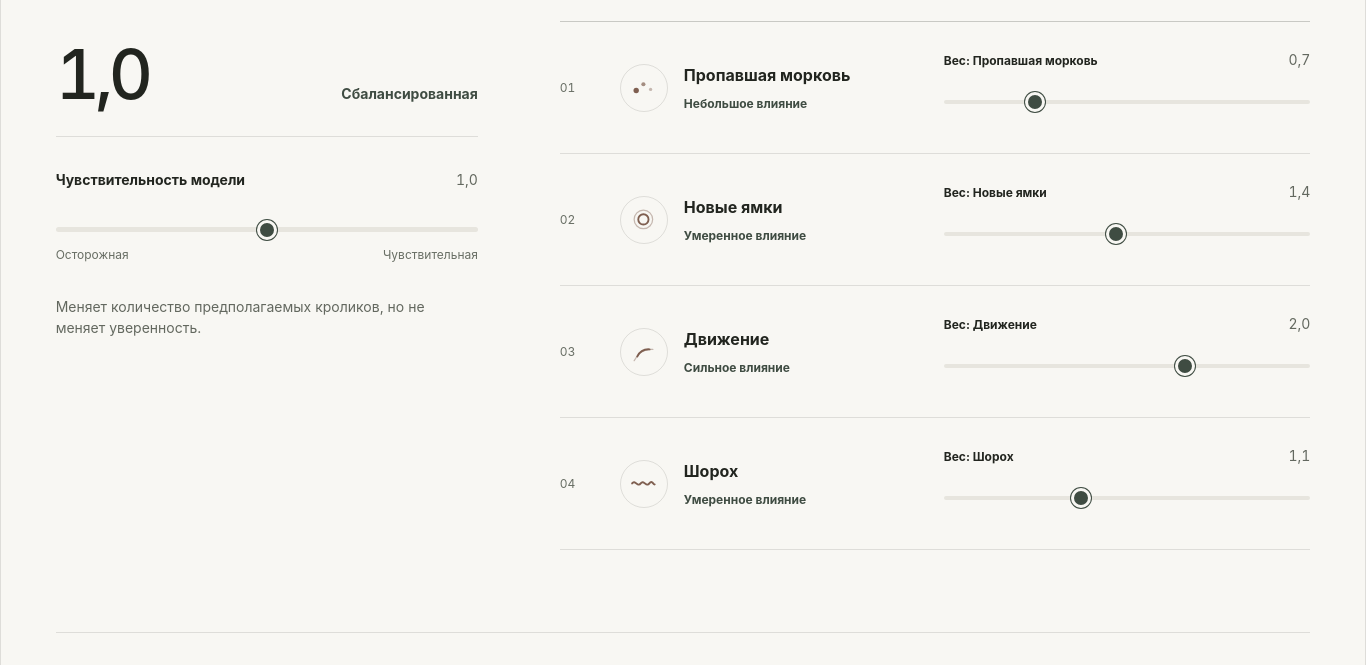
Test case: ModelSettingsSection › принимает веса 0 и 3, показывает влияние текстом и меняет evidence
The width and height of the screenshot is (1366, 665).
(page scrolled)
Set the slider labelled "Вес: Движение" to "0" at (952, 366), box top-left (944, 342), bottom-right (1310, 390)
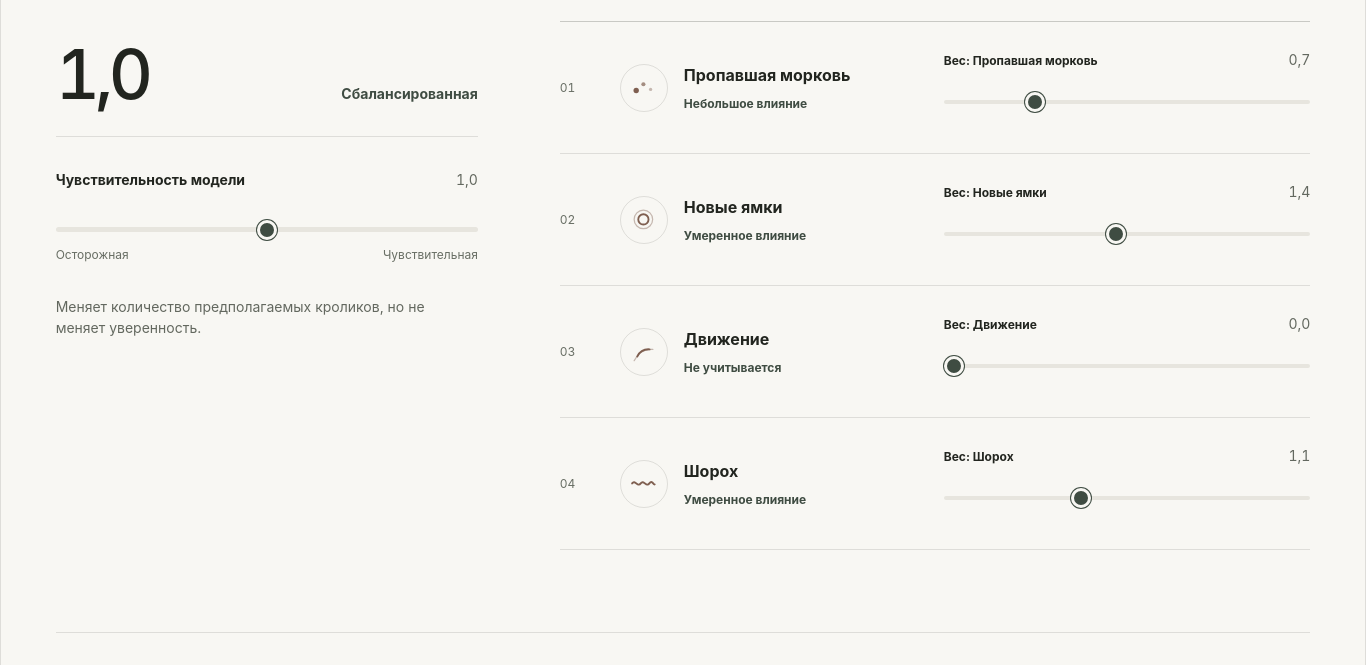
Expected: the text "Не учитывается" is shown, top-left (684, 360), bottom-right (781, 374)
Set the slider labelled "Вес: Пропавшая морковь" to "3" at (1302, 102), box top-left (944, 78), bottom-right (1310, 126)
(page scrolled)
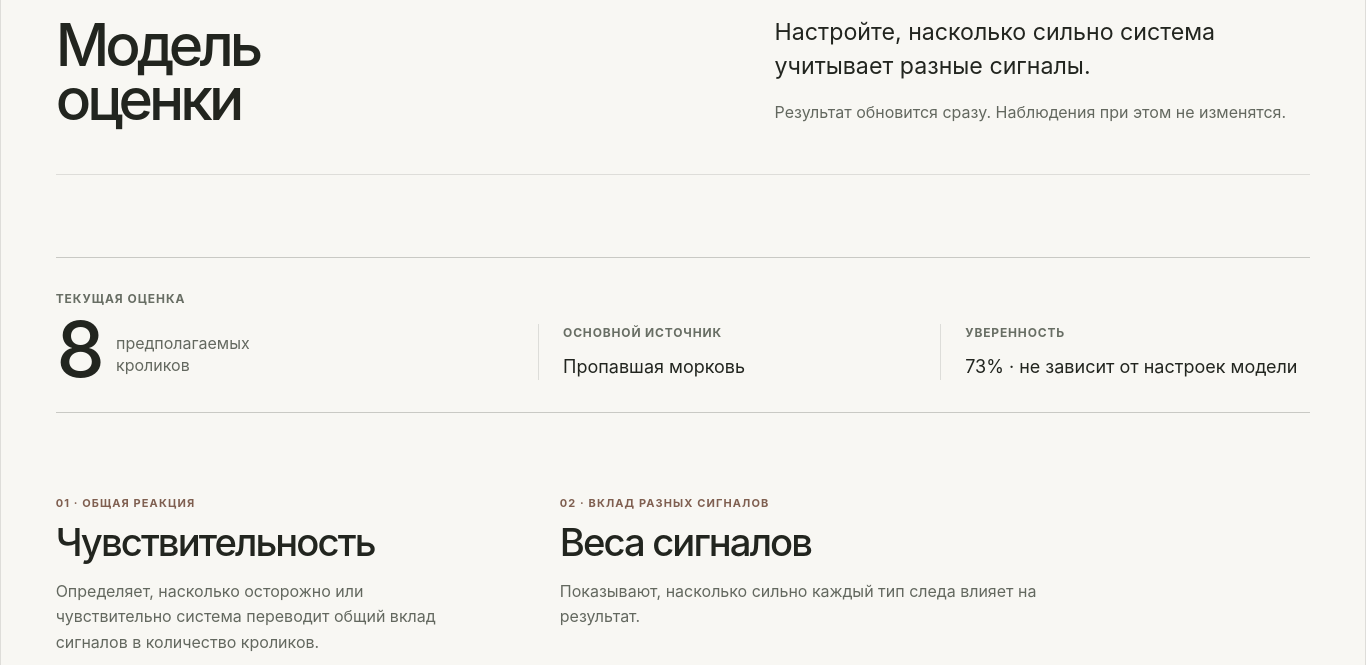
Expected: the text "73% · не зависит от настроек модели" is shown, top-left (965, 354), bottom-right (1310, 380)
Expected: the text "Пропавшая морковь" is shown, top-left (563, 356), bottom-right (745, 376)
